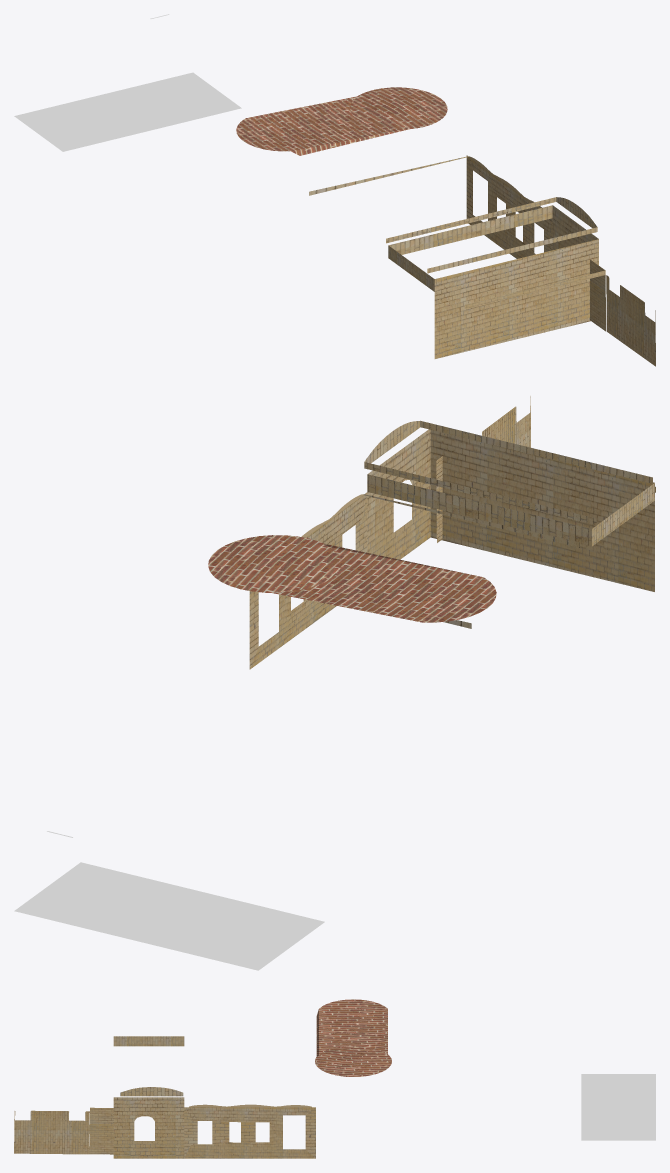
File: catedral12bx.fbx
The picture shows the model from 3 angles, top to bottom: view 1: azimuth 30°, elevation 25°; view 2: azimuth 150°, elevation 25°; view 3: azimuth 270°, elevation 25°; orthographic projection. The views are drawn at different scales.
Parts seen in each view (by area): view 1: Cube.060, Cube.070, Cylinder.003, lado dere camp, Cube.016; view 2: Cube.060, Cube.070, Cylinder.003, lado dere camp; view 3: Cube.060, Cylinder.003, Cube.070, lado dere camp.
Part boxes in pixels (x1=…): Cube.060: x1=309, y1=155, x2=598, y2=358; Cube.070: x1=14, y1=14, x2=241, y2=151; Cylinder.003: x1=236, y1=87, x2=447, y2=155; lado dere camp: x1=590, y1=259, x2=655, y2=366; Cube.016: x1=465, y1=270, x2=605, y2=308; Cube.060: x1=249, y1=420, x2=654, y2=669; Cube.070: x1=14, y1=831, x2=324, y2=970; Cylinder.003: x1=208, y1=535, x2=496, y2=622; lado dere camp: x1=436, y1=396, x2=530, y2=542; Cube.060: x1=113, y1=1036, x2=315, y2=1158; Cylinder.003: x1=315, y1=999, x2=391, y2=1076; Cube.070: x1=581, y1=1074, x2=655, y2=1140; lado dere camp: x1=14, y1=1107, x2=113, y2=1154.
Bounding box in the file's own units: 8677 × 4026 × 27215.
